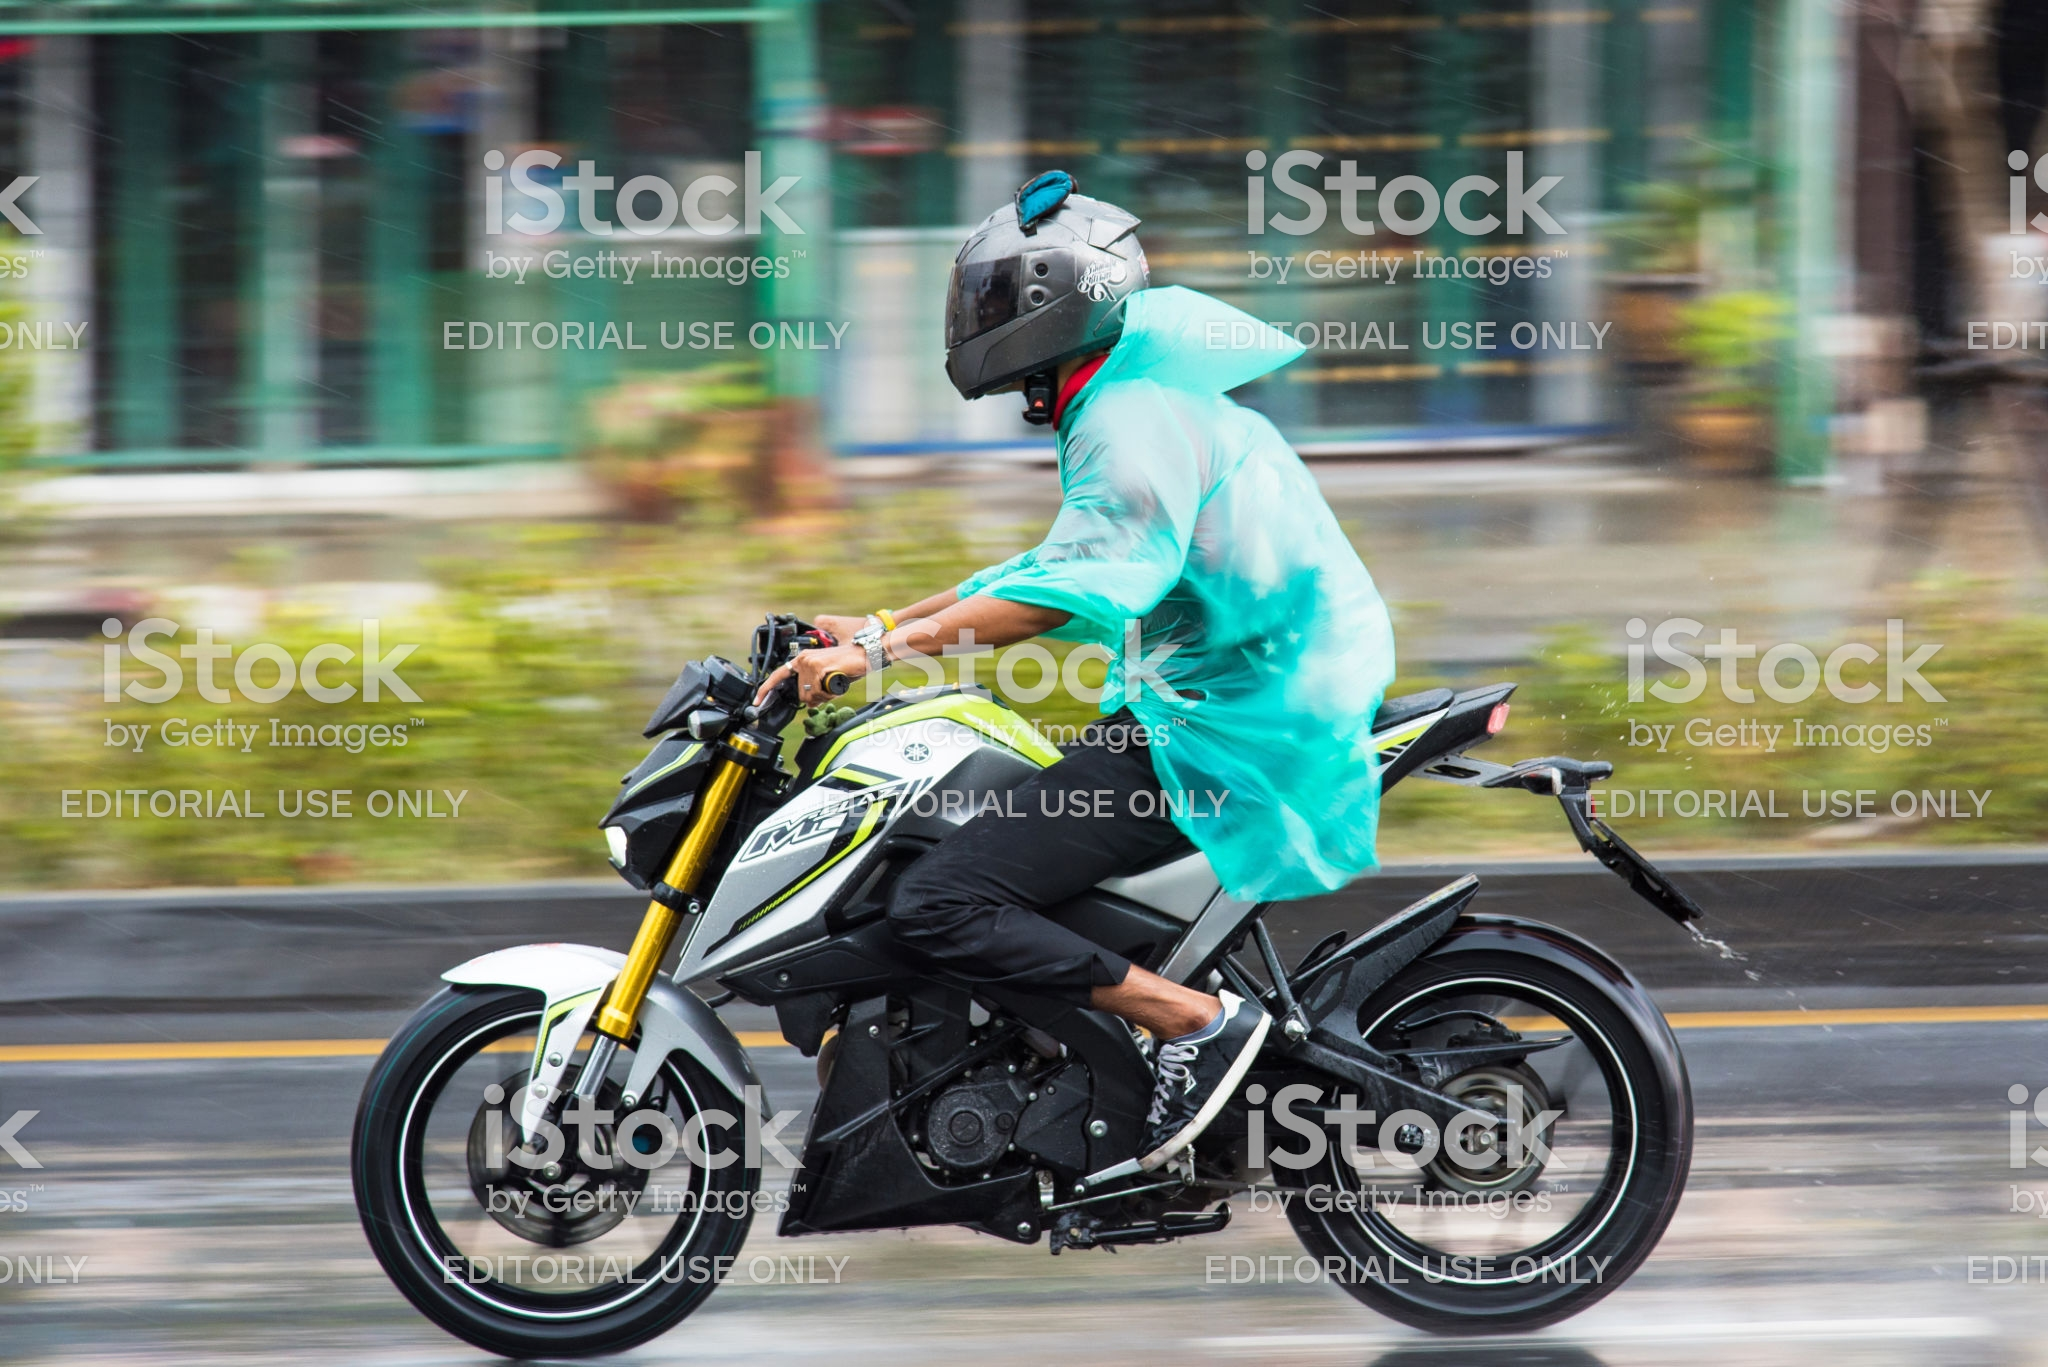helmet: (923, 172, 1147, 395)
